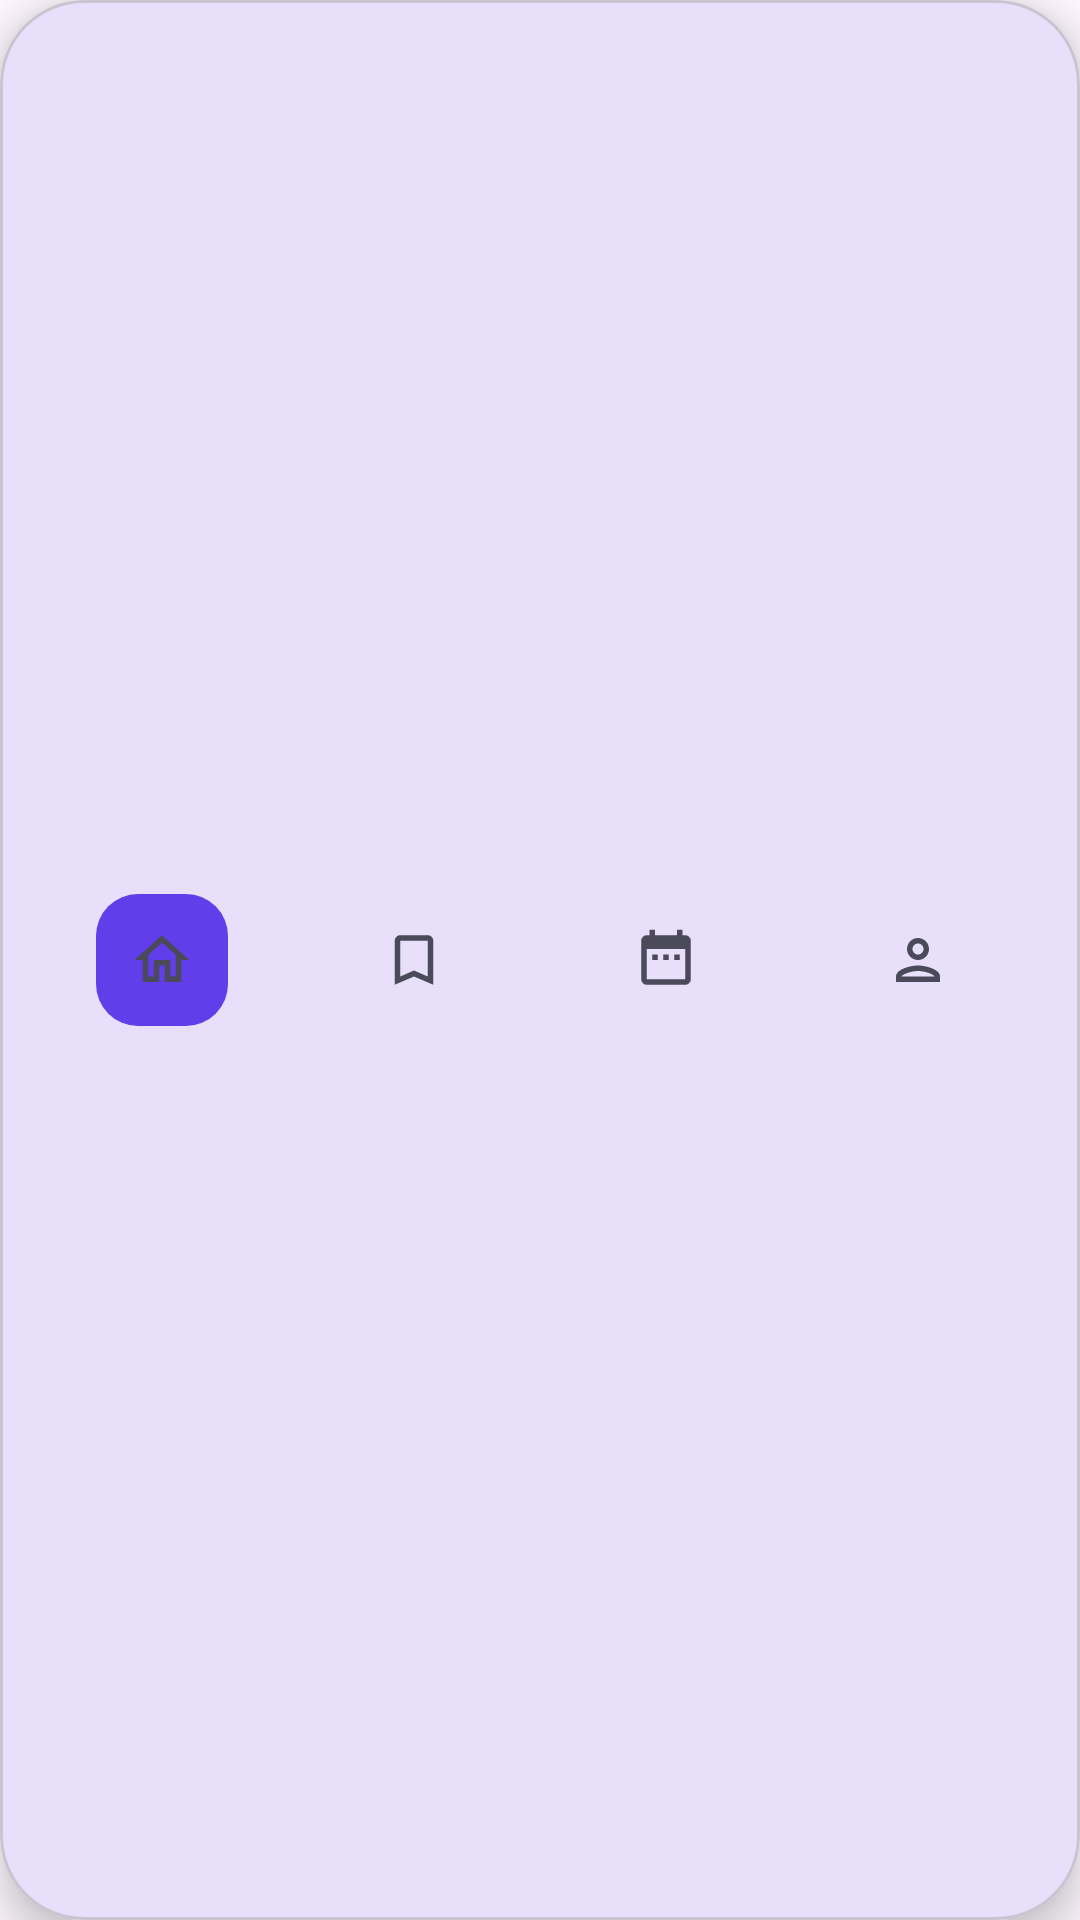

Screen size 1080*1920. Icon name, then its center in pixels as (x,y):
booking: (666,957)
home: (162,958)
profile: (918,960)
saved: (414,960)
